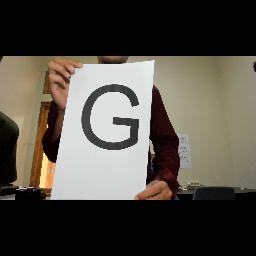g: (78, 84, 142, 160)
